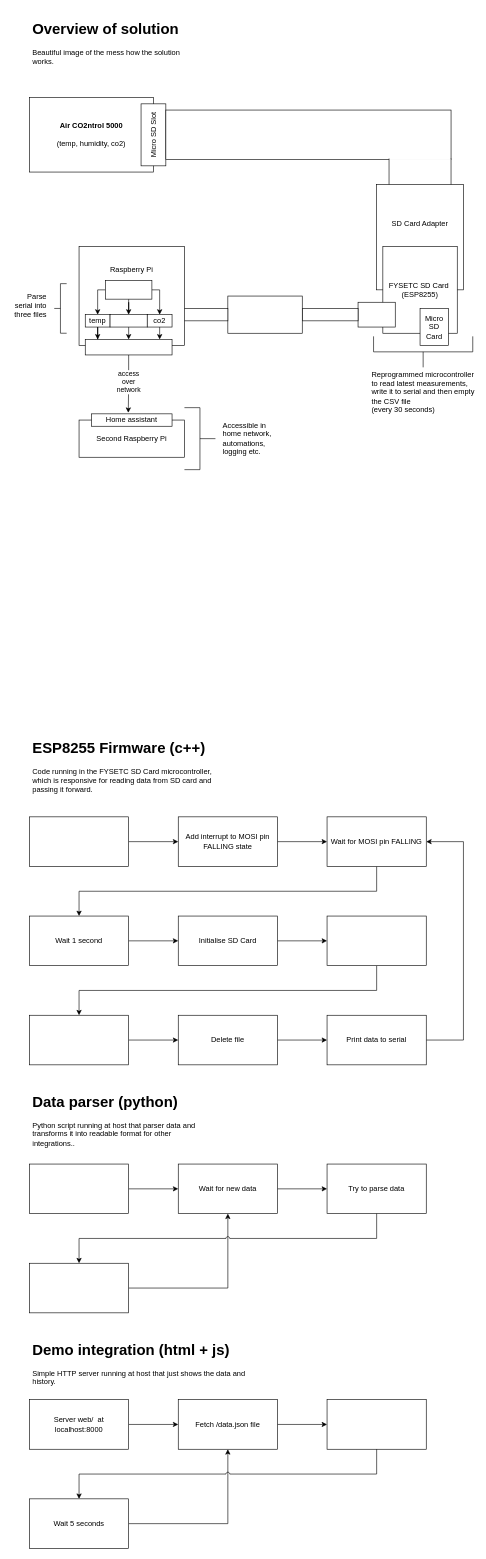
Image size: 486x1559. Some labels were removed from this diagram. Each missing label, with the box of its shape:
Add measurements to html table: (326, 1399, 426, 1449)
Get file name by last modified datetime: (326, 915, 426, 966)
humidity: (109, 314, 147, 327)
Listen to serial port 9600: (29, 1163, 129, 1214)
Micro USB Port: (357, 302, 395, 327)
nginx /sensor/<type>: (85, 339, 172, 355)
Open serial at port 9600: (29, 816, 129, 866)
Python script: (105, 280, 152, 299)
Read second line of the file: (29, 1015, 129, 1065)
Save data to JSON file at web/ folder: (29, 1263, 129, 1313)
USB A -> USB C Adapter: (227, 295, 302, 333)
